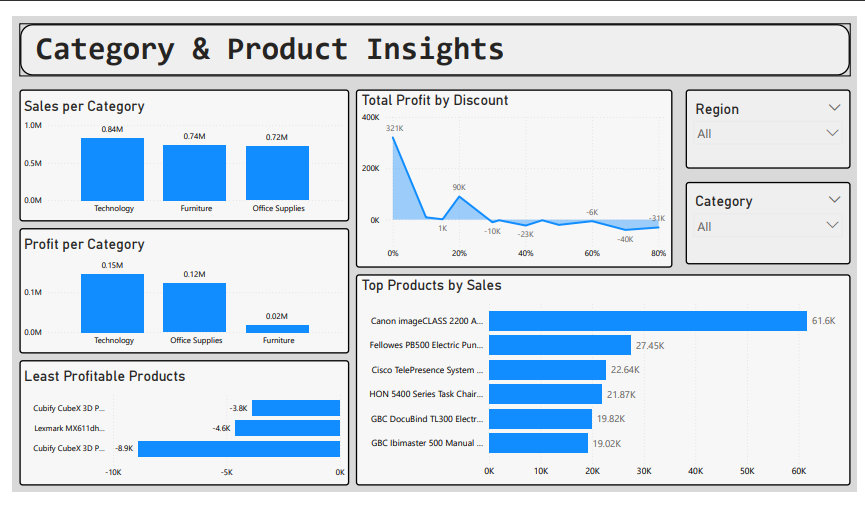

Layout of this report page (visuals, bound fields, positions):
{"tool":"powerbi","page":{"name":"Category & Product Insights","canvas":[1280,720],"ordinal":1},"visuals":[{"type":"shape","box":[10,10,1260,80],"z":0},{"type":"textbox","box":[30,15,800,70],"z":1000},{"type":"columnChart","title":"Sales per Category","fields":{"Category":["Sample_ Superstore.Category"],"Y":["Sum(Sample_ Superstore.Sales)"]},"box":[10,110,500,200],"z":2000},{"type":"barChart","title":"Top Products by Sales","fields":{"Category":["Sample_ Superstore.Product Name"],"Y":["Sum(Sample_ Superstore.Sales)"]},"box":[520,390,750,320],"z":3000},{"type":"areaChart","title":"Total Profit by Discount","fields":{"Y":["Sum(Sample_ Superstore.Profit)"],"Category":["Sample_ Superstore.Discount"]},"box":[520,110,480,270],"z":4000},{"type":"barChart","title":"Least Profitable Products","fields":{"Category":["Sample_ Superstore.Product Name"],"Y":["Sum(Sample_ Superstore.Profit)"]},"box":[10,520,500,190],"z":5000},{"type":"columnChart","title":"Profit per Category","fields":{"Category":["Sample_ Superstore.Category"],"Y":["Sum(Sample_ Superstore.Profit)"]},"box":[10,320,500,190],"z":5001},{"type":"slicer","fields":{"Values":["Sample_ Superstore.Region"]},"box":[1020,110,250,120],"z":5002},{"type":"slicer","fields":{"Values":["Sample_ Superstore.Category"]},"box":[1020,250,250,125],"z":5003}]}

Visuals, with their boxes in screenshot pixels (x1, y1, x2, y2):
shape: pyautogui.locateOnScreen(11, 20, 851, 73)
textbox: pyautogui.locateOnScreen(25, 24, 558, 70)
"Sales per Category" columnChart: pyautogui.locateOnScreen(11, 87, 344, 220)
"Top Products by Sales" barChart: pyautogui.locateOnScreen(351, 273, 851, 487)
"Total Profit by Discount" areaChart: pyautogui.locateOnScreen(351, 87, 671, 267)
"Least Profitable Products" barChart: pyautogui.locateOnScreen(11, 360, 344, 487)
"Profit per Category" columnChart: pyautogui.locateOnScreen(11, 227, 344, 353)
slicer - Sample_ Superstore.Region: pyautogui.locateOnScreen(684, 87, 851, 167)
slicer - Sample_ Superstore.Category: pyautogui.locateOnScreen(684, 180, 851, 263)
